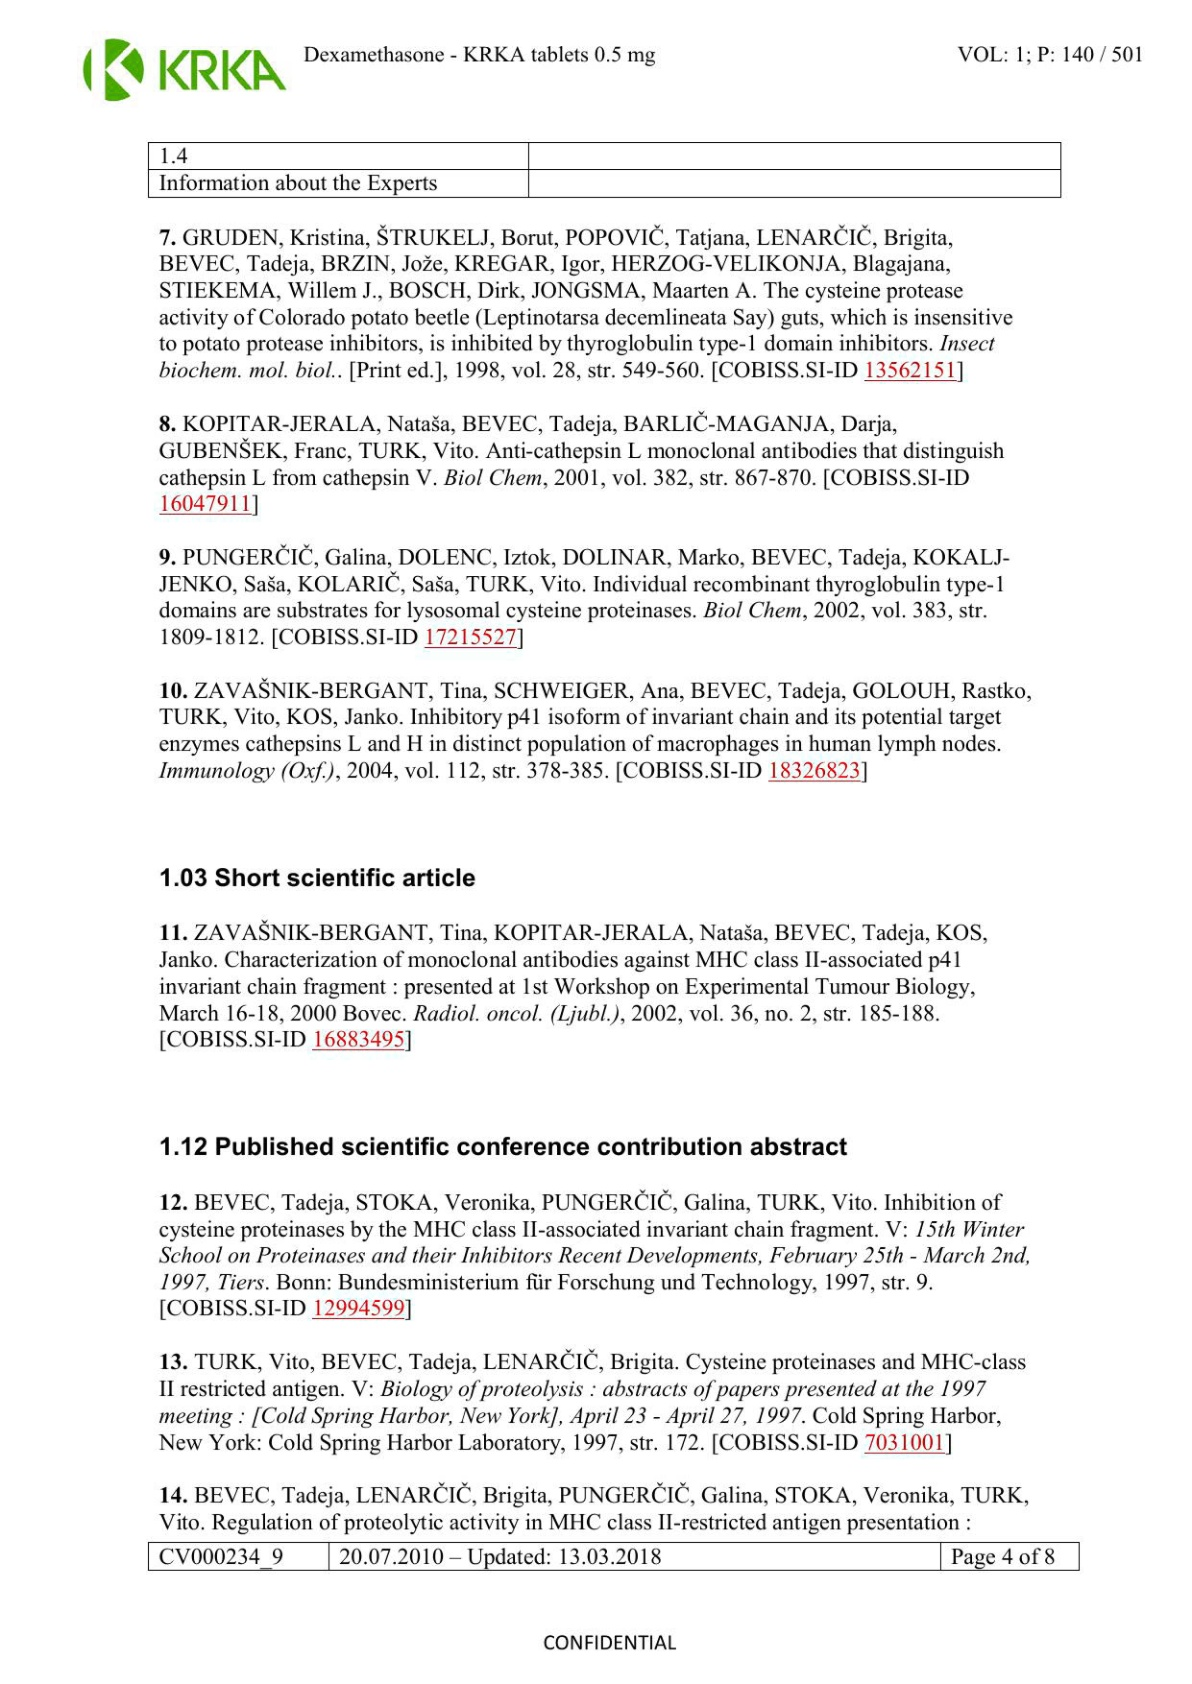full_lined: (147, 141, 1062, 199), (147, 1541, 1080, 1572)
